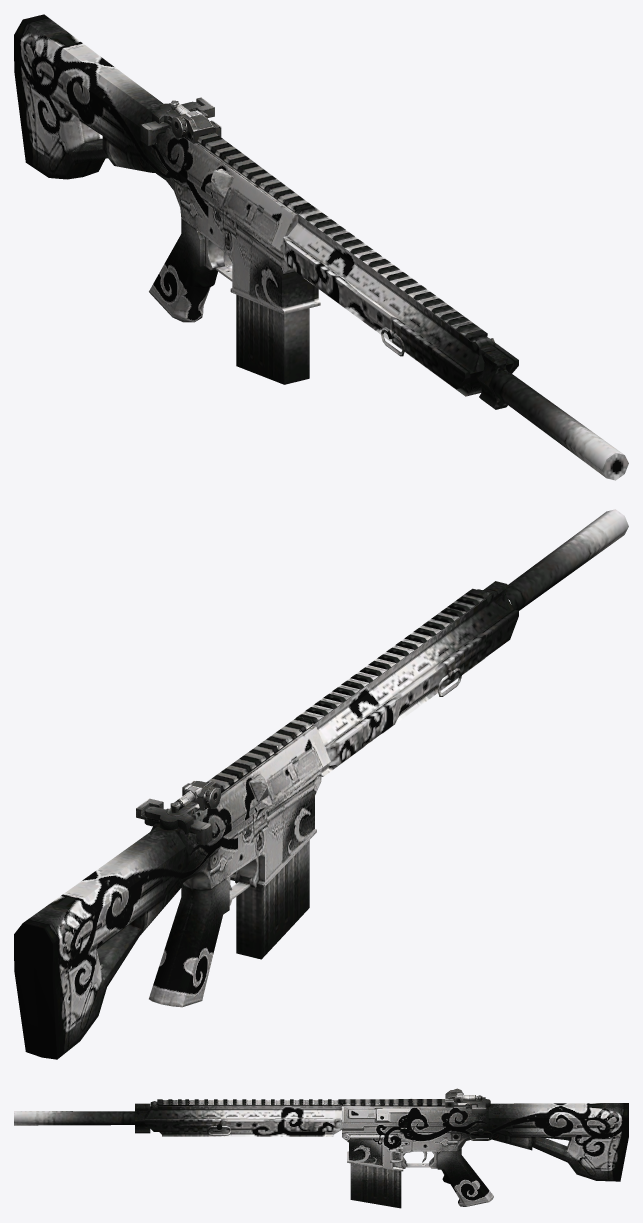
Rendered from Sniper_Rifle_SR_M110_Body_Main_(000819).glb.
3 views of the same model, one above another, from view 1: azimuth 30°, elevation 25°; view 2: azimuth 150°, elevation 25°; view 3: azimuth 270°, elevation 25° (orthographic). The views are drawn at different scales.
Parts seen in each view (by area): view 1: SR_M110; view 2: SR_M110; view 3: SR_M110.
Boxes of the visible parts, x1=… form: SR_M110: x1=14, y1=14, x2=628, y2=480; SR_M110: x1=14, y1=509, x2=628, y2=1059; SR_M110: x1=14, y1=1088, x2=628, y2=1208.
Size of the model in its own units: 0.0774 by 0.2418 by 1.2.
Materials: 1 (1 with a texture image).
